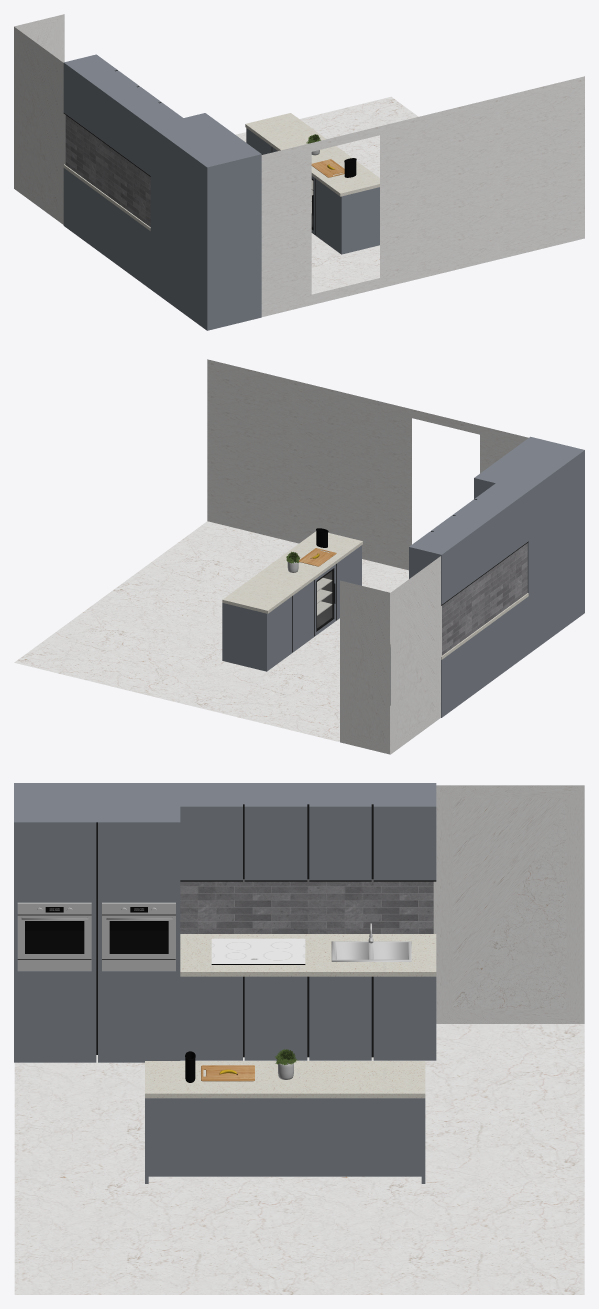
The model's file is ModifiedKitchen_v4.obj.
3 views of the same model, one above another, from view 1: azimuth 30°, elevation 25°; view 2: azimuth 150°, elevation 25°; view 3: azimuth 270°, elevation 25° (orthographic). The views are drawn at different scales.
Visible parts, largest first — view 1: WindowWall_Wall, Cupboards_Cupboard, WindowWall.002_Wall, Floor_Wall, Tiles_Tiles, Counters_Counter, WindowWall.001_Wall; view 2: Floor_Wall, WindowWall_Wall, Cupboards_Cupboard, WindowWall.002_Wall, WindowWall.001_Wall, Counters_Counter, Tiles_Tiles, Fridge_FridgeGlass, Trim_CupboardTrim; view 3: Floor_Wall, Cupboards_Cupboard, WindowWall.002_Wall, Counters_Counter, Tiles_Tiles, Ovens_Oven, Ovens_Hob, Hob_Material.001, Trim_CupboardTrim, Sink_Sink, Chopping_Board_Material.005.
Part boxes in pixels (left/top/right/bottom): WindowWall_Wall: left=261, top=76, right=584, bottom=316; Cupboards_Cupboard: left=63, top=54, right=379, bottom=330; WindowWall.002_Wall: left=14, top=27, right=65, bottom=224; Floor_Wall: left=235, top=96, right=418, bottom=294; Tiles_Tiles: left=65, top=115, right=150, bottom=226; Counters_Counter: left=63, top=113, right=379, bottom=230; WindowWall.001_Wall: left=14, top=14, right=64, bottom=62; Floor_Wall: left=14, top=521, right=408, bottom=754; WindowWall_Wall: left=207, top=359, right=528, bottom=570; Cupboards_Cupboard: left=222, top=436, right=584, bottom=717; WindowWall.002_Wall: left=390, top=556, right=441, bottom=754; WindowWall.001_Wall: left=340, top=580, right=390, bottom=754; Counters_Counter: left=222, top=531, right=528, bottom=659; Tiles_Tiles: left=442, top=543, right=527, bottom=655; Fridge_FridgeGlass: left=317, top=571, right=331, bottom=627; Trim_CupboardTrim: left=292, top=499, right=528, bottom=652; Floor_Wall: left=14, top=1024, right=584, bottom=1294; Cupboards_Cupboard: left=14, top=783, right=436, bottom=1183; WindowWall.002_Wall: left=433, top=785, right=584, bottom=1023; Counters_Counter: left=145, top=934, right=436, bottom=1098; Tiles_Tiles: left=180, top=879, right=433, bottom=933; Ovens_Oven: left=17, top=902, right=175, bottom=971; Ovens_Hob: left=17, top=914, right=175, bottom=959; Hob_Material.001: left=211, top=938, right=305, bottom=963; Trim_CupboardTrim: left=96, top=804, right=436, bottom=1057; Sink_Sink: left=331, top=923, right=411, bottom=961; Chopping_Board_Material.005: left=207, top=1065, right=248, bottom=1081.
Bounding box in the file's own units: 13.42 × 5.54 × 11.93.
